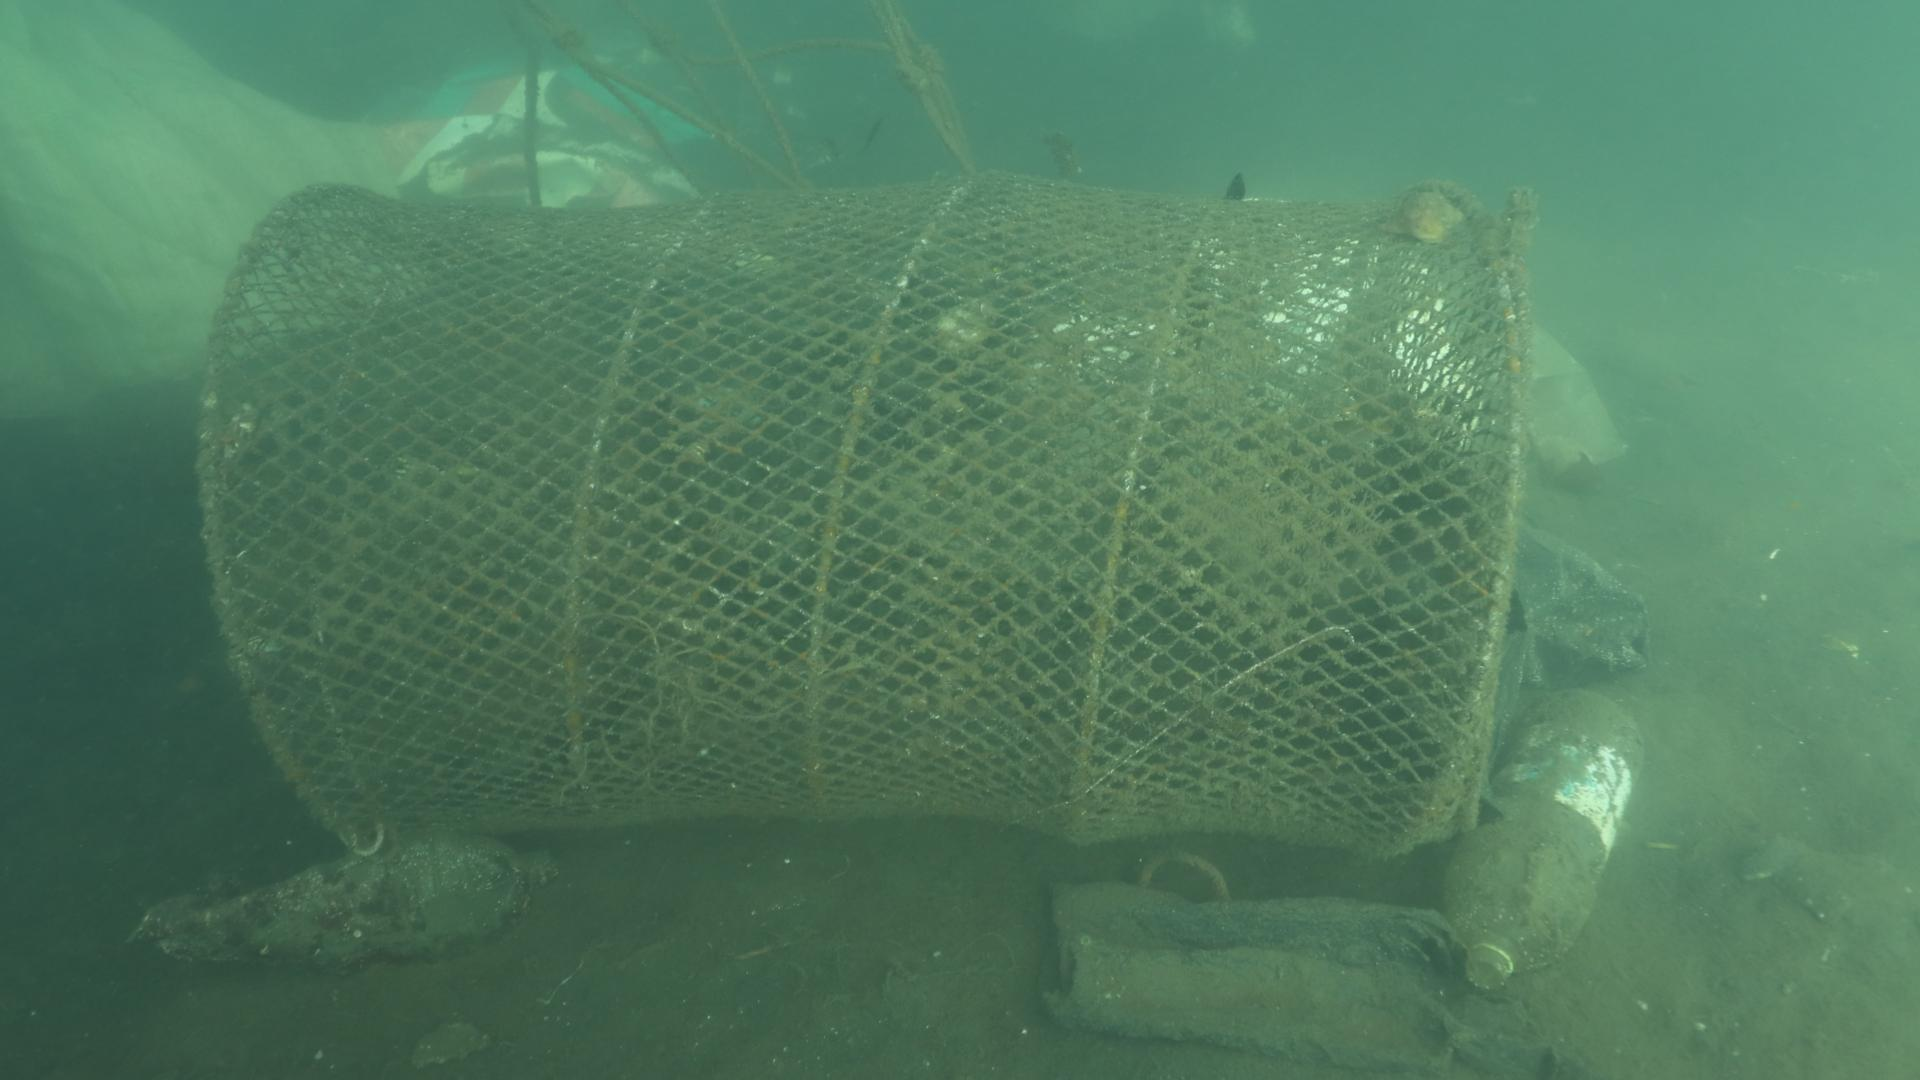spring fish trap: (193, 165, 1532, 856)
